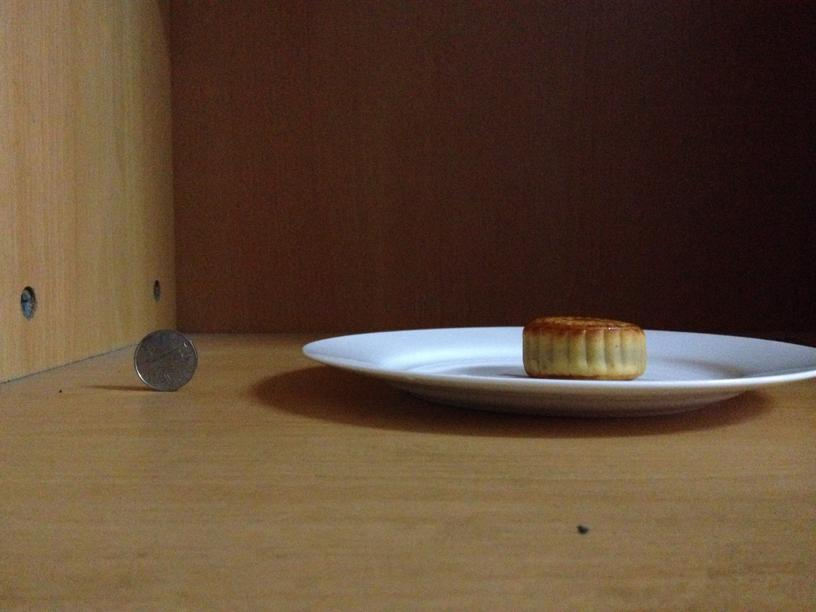coin: (134, 328, 196, 391)
mooncake: (521, 315, 646, 378)
